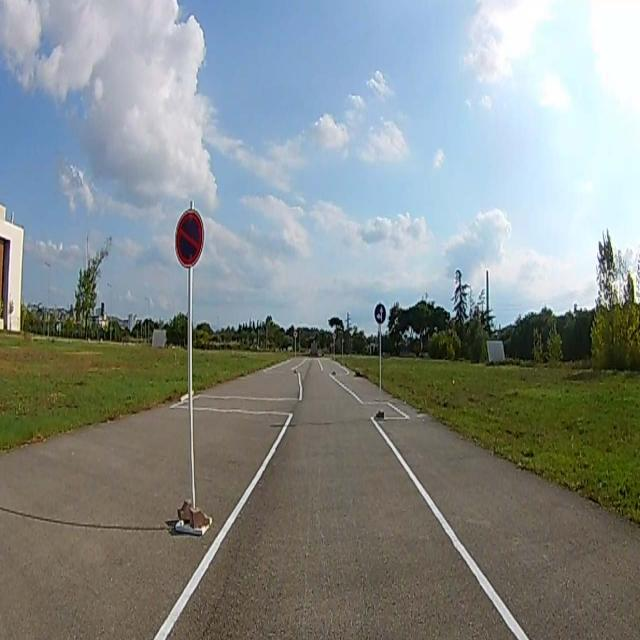ilerisol: (374, 303, 385, 325)
parkyasak: (175, 210, 204, 266)
